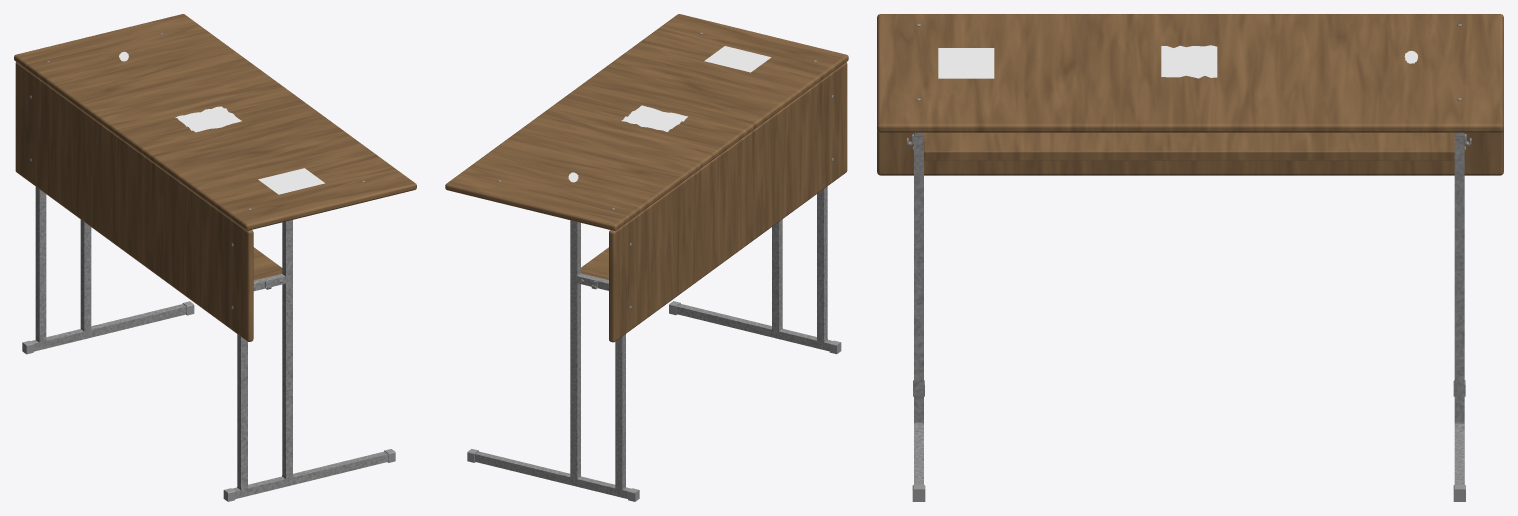
The model's file is school_desk.glb.
3 views of the same model, side by side, from view 1: azimuth 30°, elevation 25°; view 2: azimuth 150°, elevation 25°; view 3: azimuth 270°, elevation 25° (orthographic). The views are drawn at different scales.
Parts seen in each view (by area): view 1: Desk_5, Paper crumpled_4, Paper_2; view 2: Desk_5, Paper_2, Paper crumpled_4; view 3: Desk_5, Paper crumpled_4, Paper_2.
Boxes of the visible parts, x1,y1,x2,y2 form: Desk_5: [14, 14, 416, 501]; Paper crumpled_4: [175, 106, 241, 132]; Paper_2: [258, 168, 324, 194]; Desk_5: [445, 14, 848, 501]; Paper_2: [704, 46, 770, 72]; Paper crumpled_4: [621, 105, 687, 131]; Desk_5: [877, 14, 1503, 501]; Paper crumpled_4: [1161, 45, 1217, 78]; Paper_2: [938, 48, 994, 78].
Bounding box in the file's own units: 0.484 × 0.7717 × 1.11.
4 materials, 2 textured.
